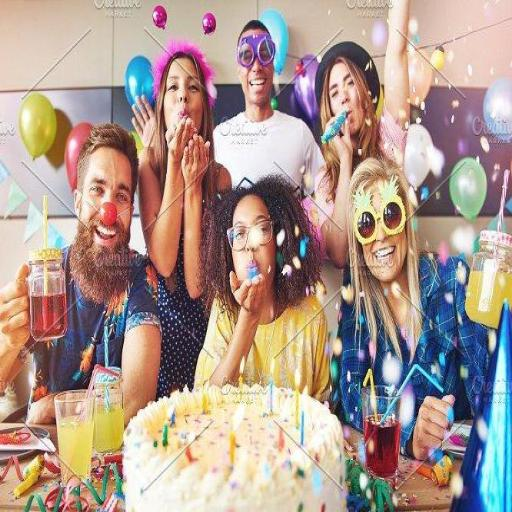person: (0, 125, 160, 423), (336, 159, 488, 458), (133, 40, 231, 397), (196, 176, 330, 400), (309, 0, 409, 268), (214, 21, 324, 190)
